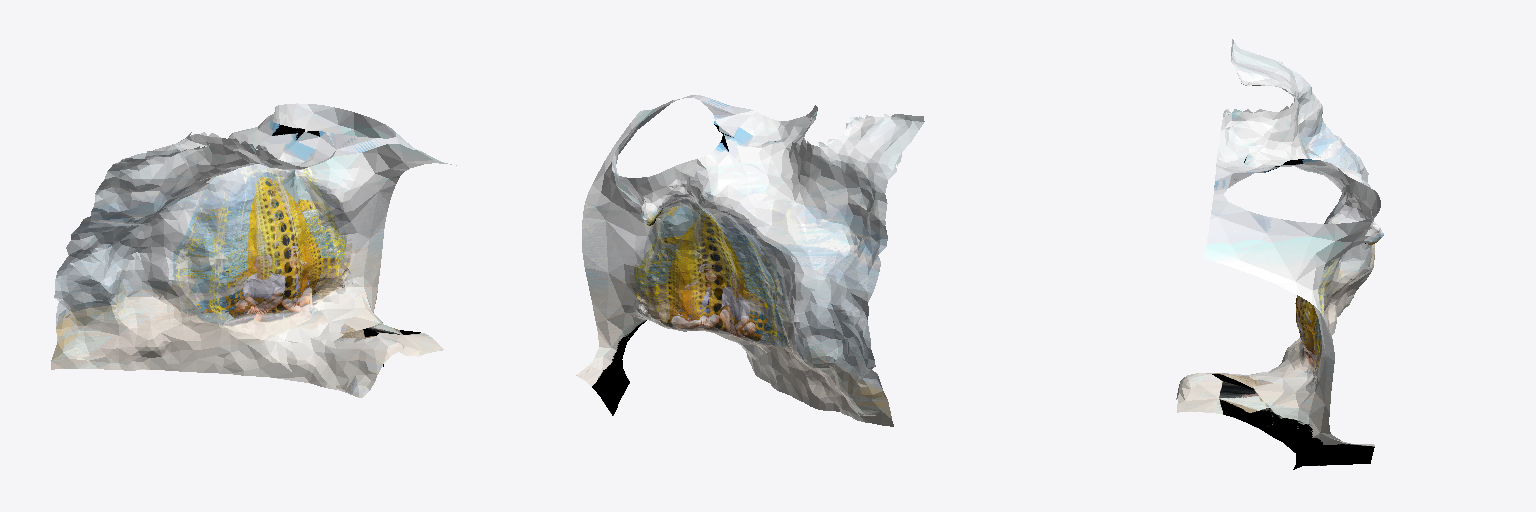
3 views of the same model, side by side, from view 1: azimuth 30°, elevation 25°; view 2: azimuth 150°, elevation 25°; view 3: azimuth 270°, elevation 25° (orthographic).
Size of the model in its own units: 23.1 by 20.56 by 12.57.
1 materials, 1 textured.